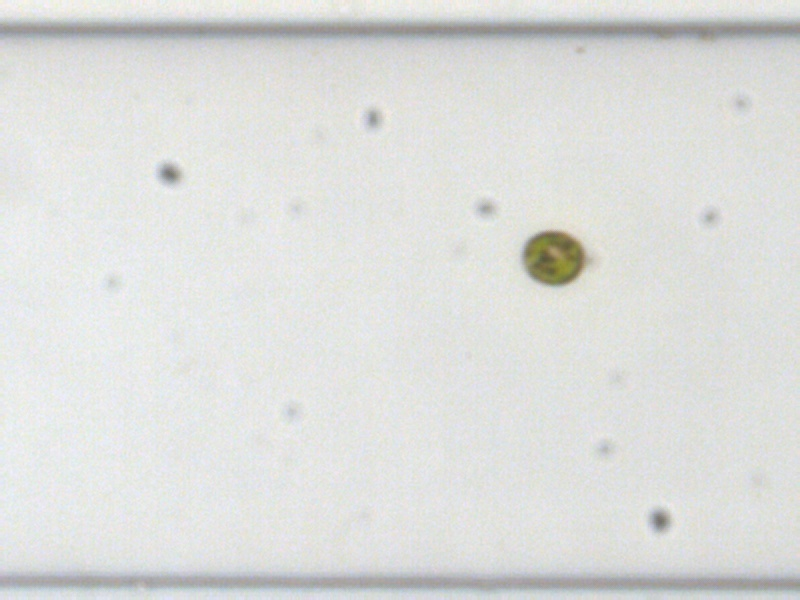Haematococcus: (520, 227, 583, 289)
